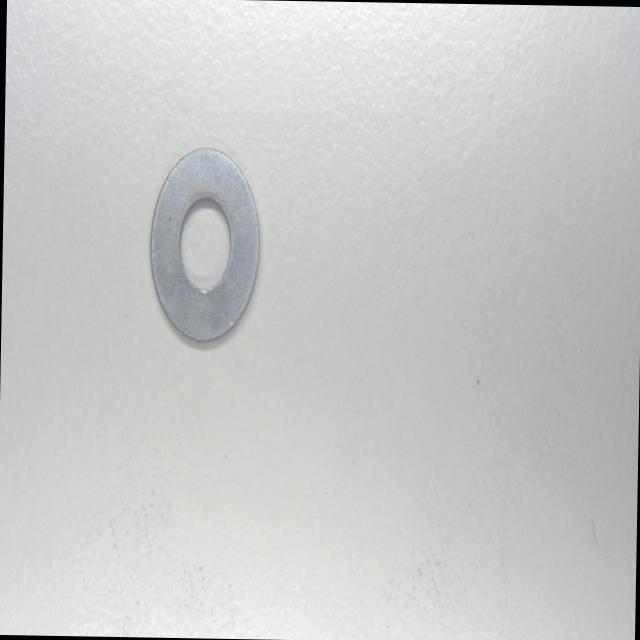washer: (145, 142, 261, 348)
